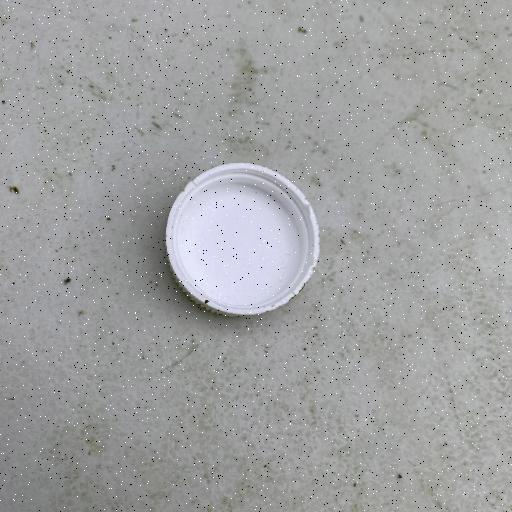Plastic: (162, 160, 322, 318)
